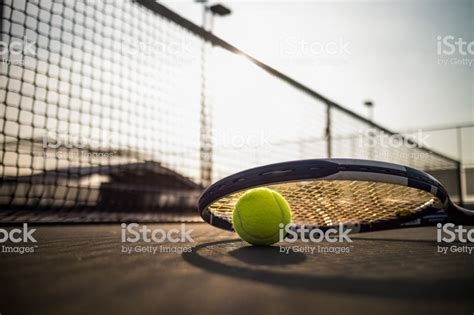tennis_ball: (232, 187, 292, 246)
